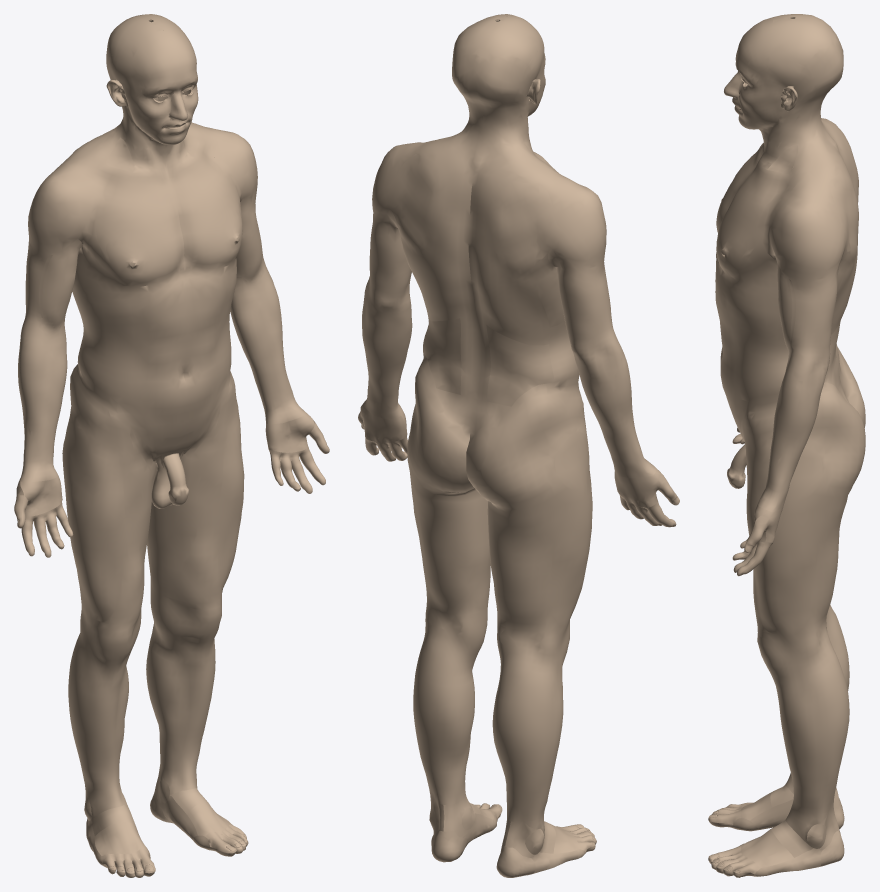
Rendered from skin.glb.
The picture shows the model from 3 angles, left to right: view 1: azimuth 30°, elevation 25°; view 2: azimuth 150°, elevation 25°; view 3: azimuth 270°, elevation 25°; orthographic projection.
Parts seen in each view (by area): view 1: Anterior region of thigh.r_web, Anterior region of thigh.l_web, Anterior region of leg.l_web, Anterior region of leg.r_web, Pectoral region.r_web, Deltoid region.r_web, Anterior region of forearm.l_web, Anterior region of forearm.r_web, Lateral region of thorax.r_web, Lateral region of abdomen.r_web, Pectoral region.l_web, Anterior region of knee.l_web (+48 smaller); view 2: Posterior region of thigh.r_web, Gluteal region.r_web, Posterior region of thigh.l_web, Posterior region of leg.r_web, Posterior region of leg.l_web, Gluteal region.l_web, Scapular region.r_web, Posterior region of arm.r_web, Infrascapular region.r_web, Scapular region.l_web, Posterior region of forearm.r_web, Vertebral region.l_web (+35 smaller); view 3: Anterior region of thigh.l_web, Posterior region of thigh.l_web, Deltoid region.l_web, Gluteal region.l_web, Posterior region of leg.l_web, Lateral region of thorax.l_web, Parietal region.l_web, Anterior region of leg.l_web, Lateral region of abdomen.l_web, Pectoral region.l_web, Posterior region of arm.l_web, Posterior region of neck.l_web (+49 smaller).
Boxes of the visible parts, x1,y1,x2,y2 form: Anterior region of thigh.r_web: (69,368,156,624); Anterior region of thigh.l_web: (151,368,244,603); Anterior region of leg.l_web: (155,643,215,770); Anterior region of leg.r_web: (75,663,128,789); Pectoral region.r_web: (95,187,176,286); Deltoid region.r_web: (28,155,91,255); Anterior region of forearm.l_web: (231,288,295,410); Anterior region of forearm.r_web: (21,344,67,467); Lateral region of thorax.r_web: (72,207,149,318); Lateral region of abdomen.r_web: (77,327,148,407); Pectoral region.l_web: (185,161,241,268); Anterior region of knee.l_web: (156,593,221,653); Posterior region of thigh.r_web: (487,486,584,632); Gluteal region.r_web: (466,382,572,509); Posterior region of thigh.l_web: (408,462,490,615); Posterior region of leg.r_web: (492,680,559,822); Posterior region of leg.l_web: (413,659,472,805); Gluteal region.l_web: (407,351,474,492); Scapular region.r_web: (490,181,563,277); Posterior region of arm.r_web: (548,232,611,339); Infrascapular region.r_web: (479,264,550,345); Scapular region.l_web: (383,154,440,256); Posterior region of forearm.r_web: (575,359,645,466); Vertebral region.l_web: (451,169,477,398); Anterior region of thigh.l_web: (743,393,793,635); Posterior region of thigh.l_web: (789,494,847,635); Deltoid region.l_web: (769,182,840,282); Gluteal region.l_web: (804,382,865,497); Posterior region of leg.l_web: (804,668,849,813); Lateral region of thorax.l_web: (720,214,852,329); Parietal region.l_web: (768,18,843,84); Anterior region of leg.l_web: (776,686,812,813); Lateral region of abdomen.l_web: (729,333,788,401); Pectoral region.l_web: (716,181,775,276); Posterior region of arm.l_web: (805,233,845,350); Posterior region of neck.l_web: (791,96,841,183).
Size of the model in its own units: 0.6801 by 1.71 by 0.294.
